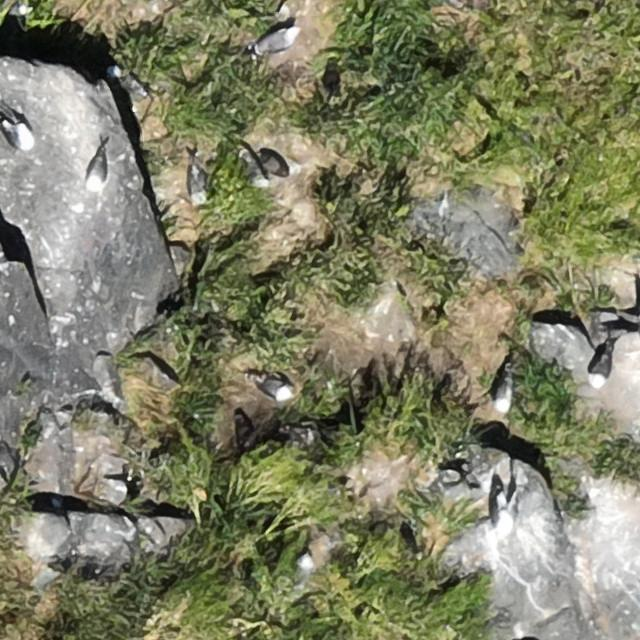umineko: (2, 102, 32, 149), (491, 484, 516, 536), (185, 155, 211, 203), (85, 147, 110, 190), (256, 30, 296, 54), (253, 376, 292, 400), (590, 354, 610, 384), (496, 378, 513, 412), (296, 552, 314, 578), (123, 75, 145, 96)
